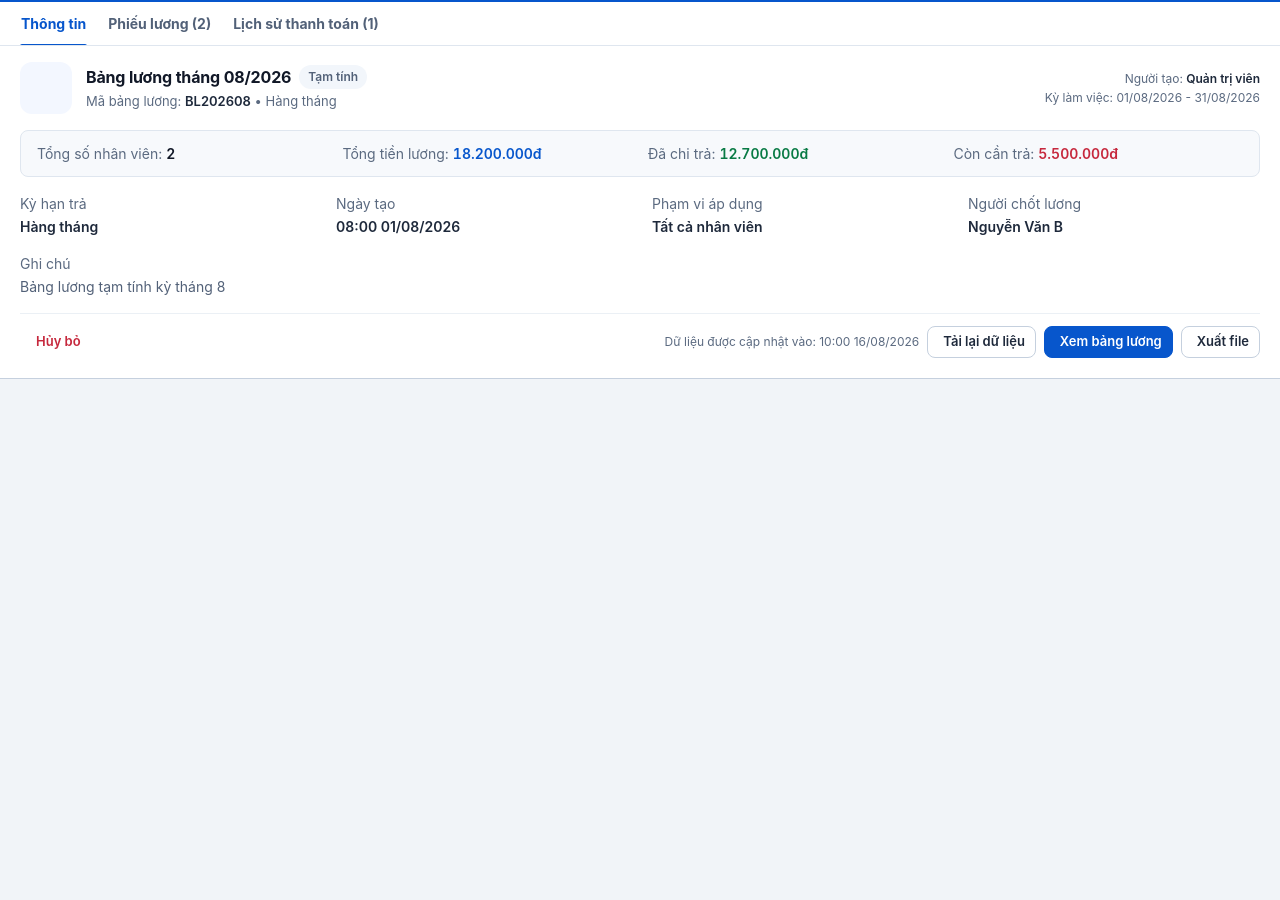
Test: StaffPayrollDetailAccordion Component › switches to records tab and payments tab properly
The width and height of the screenshot is (1280, 900).
Switch to Tab Records
Click the tab "Phiếu lương (2)".
click(160, 24)  # box [107,2,212,45]
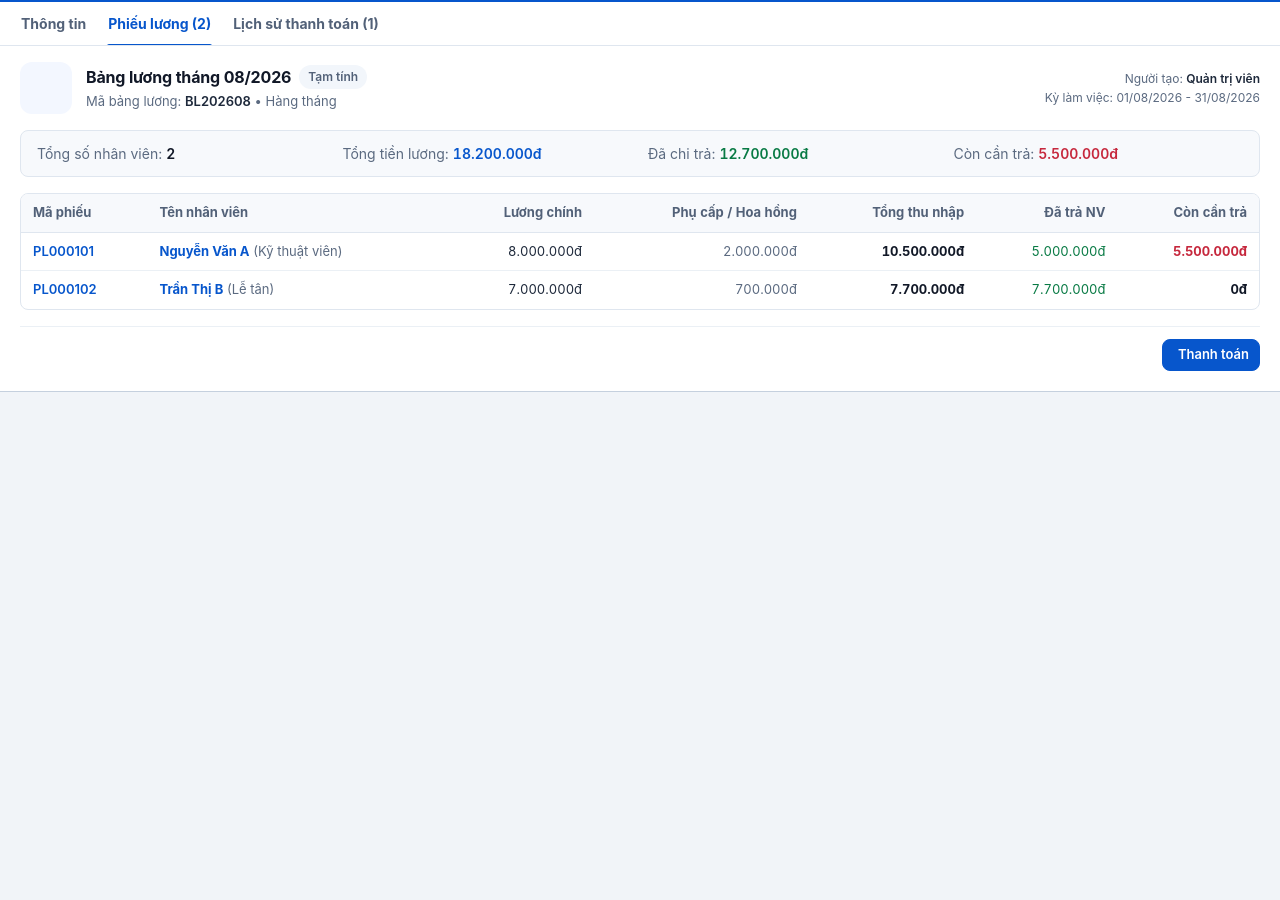
Expected: the column heading "Mã phiếu" is shown, [21,194,148,232]
Expected: the column heading "Tên nhân viên" is shown, [148,194,446,232]
Expected: the column heading "Lương chính" is shown, [446,194,594,232]
Click the button "Thanh toán".
click(1211, 354)  # box [1162,338,1260,370]
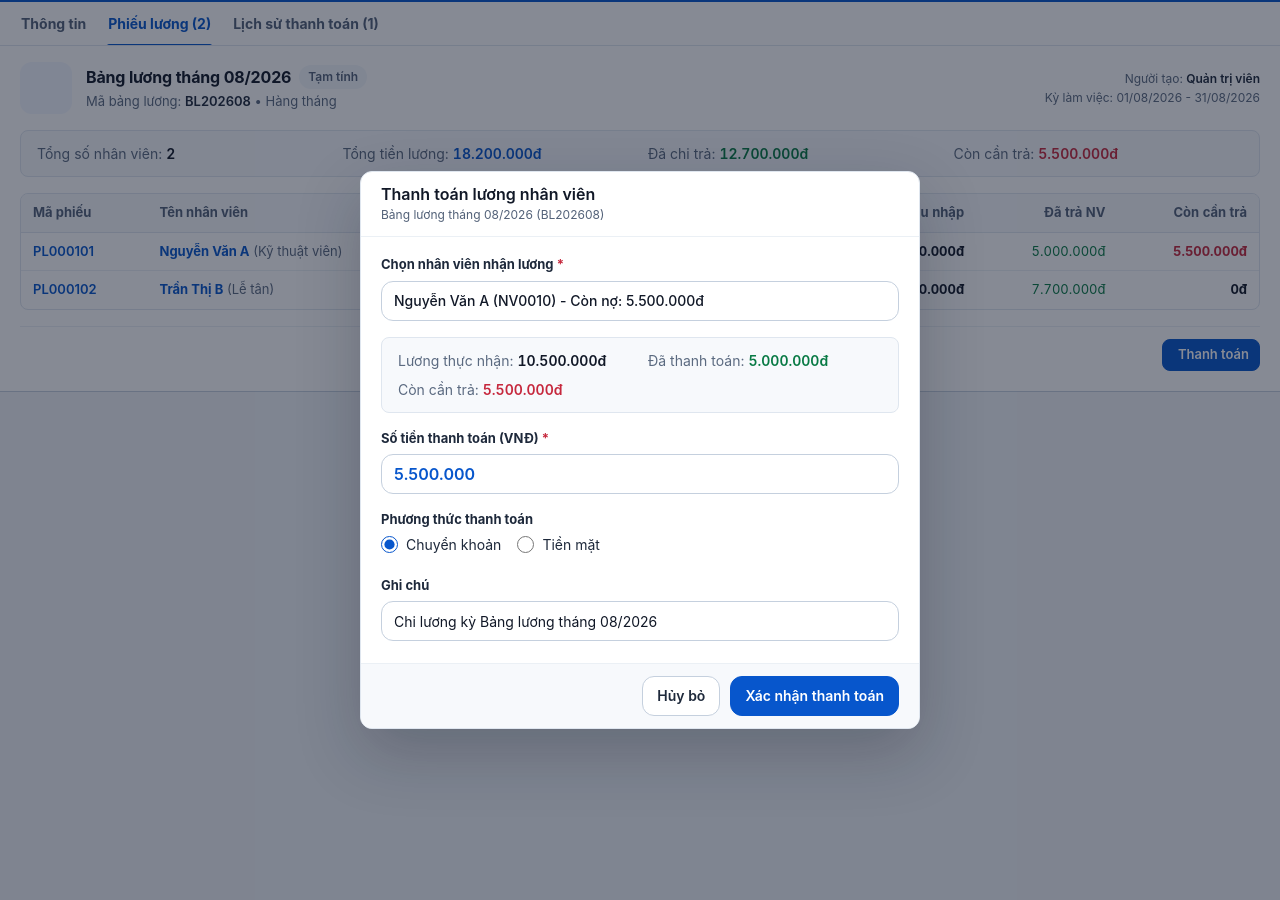
Expected: the heading "Thanh toán lương nhân viên" is shown, [381,184,604,204]
Click the button "Hủy bỏ".
click(681, 696)  # box [642,676,720,716]
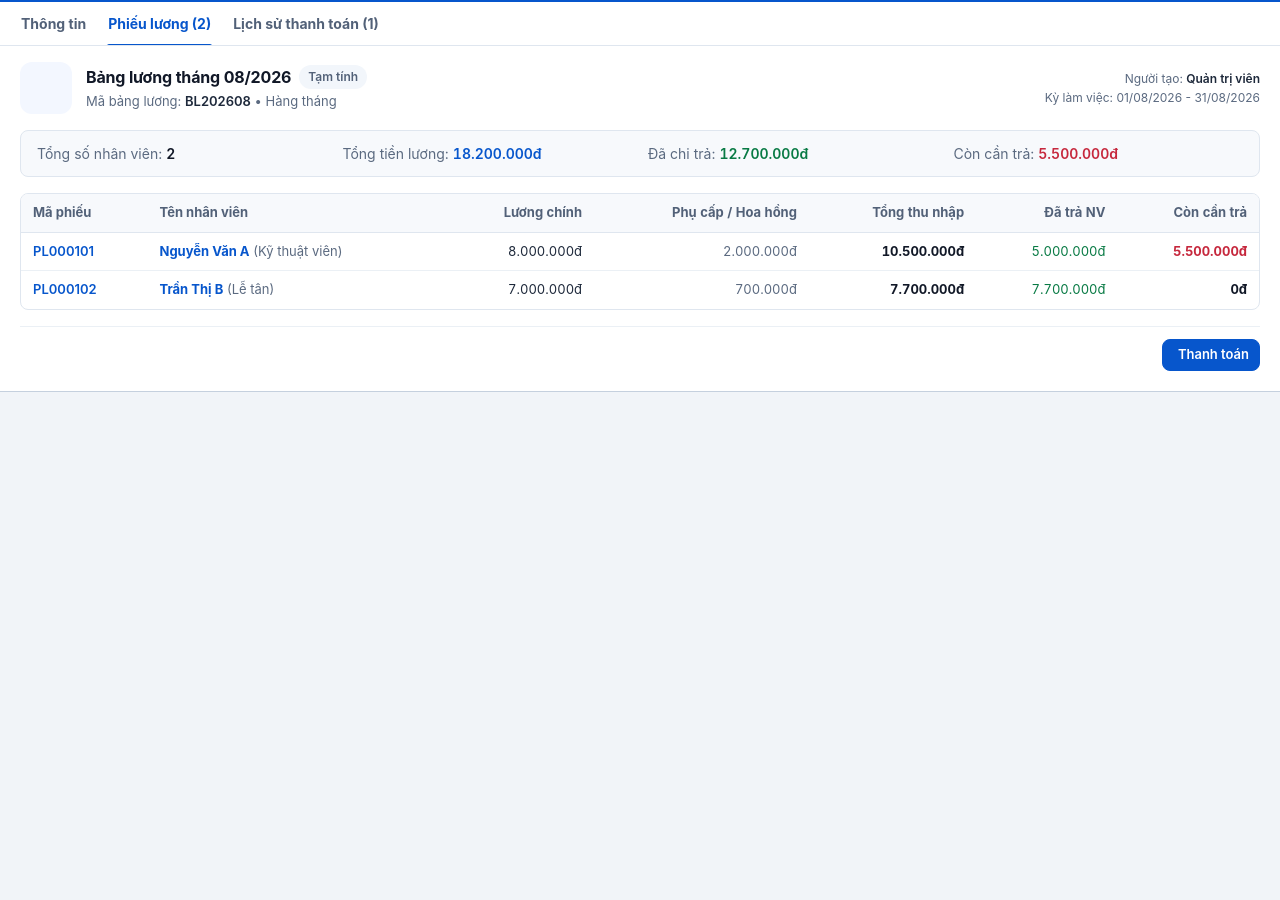
Switch to Tab Payments
Click the tab "Lịch sử thanh toán (1)".
click(306, 24)  # box [232,2,380,45]
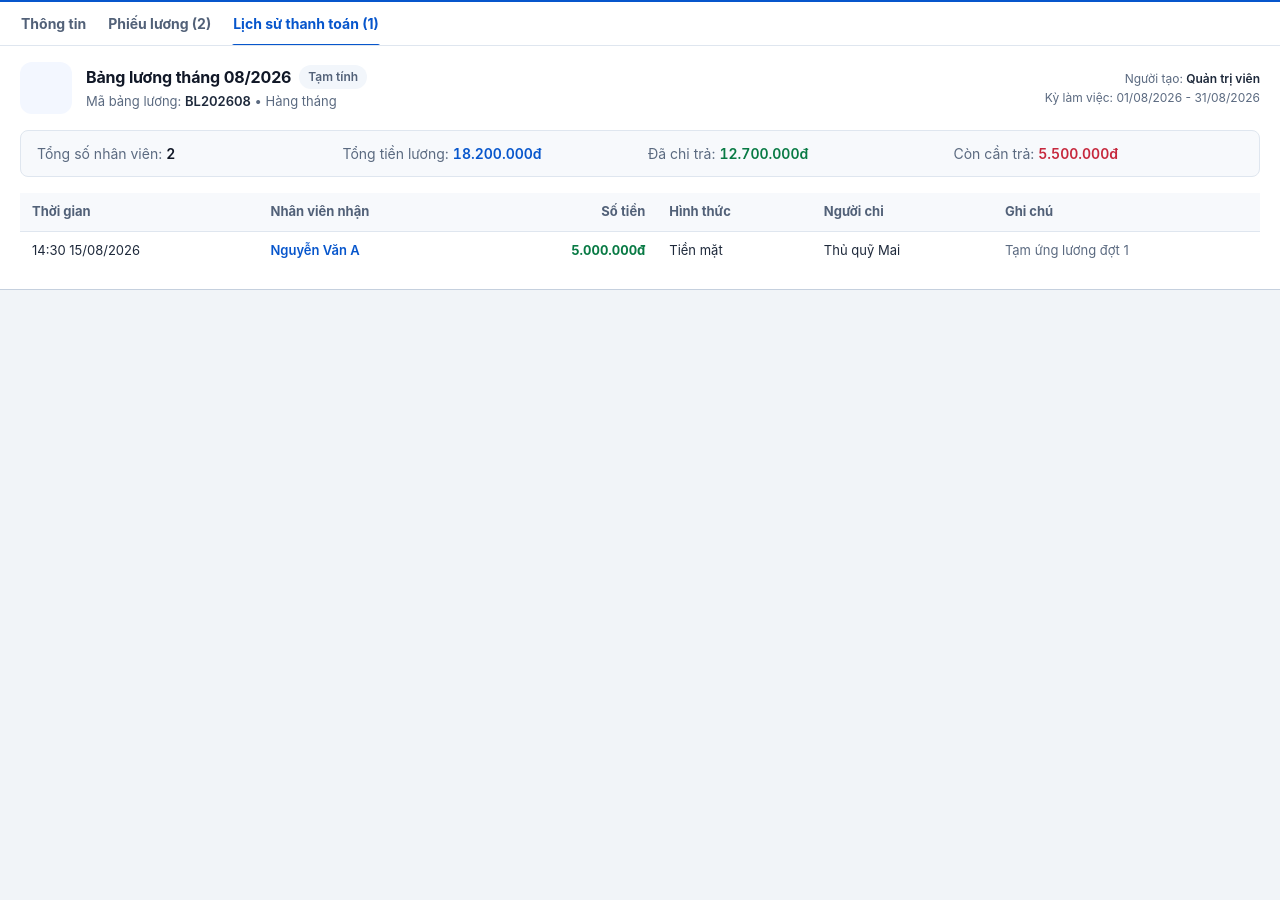
Expected: the column heading "Thời gian" is shown, [20,193,258,231]
Expected: the column heading "Nhân viên nhận" is shown, [258,193,480,231]
Expected: the column heading "Số tiền" is shown, [480,193,657,231]
